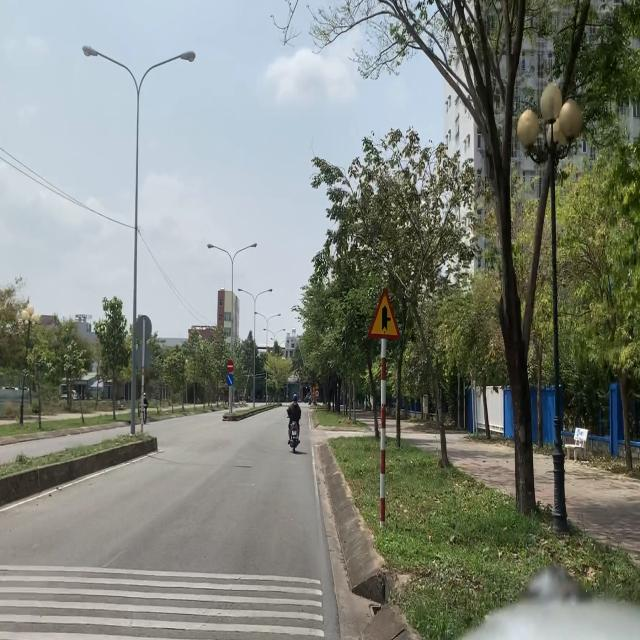Cam nguoc chieu: (227, 360, 234, 372)
Giao voi duong khong uu tien: (368, 286, 401, 341), (315, 382, 319, 390)
Hieu lenh: (227, 373, 234, 386)
Toc do toi da: (315, 390, 319, 397)
